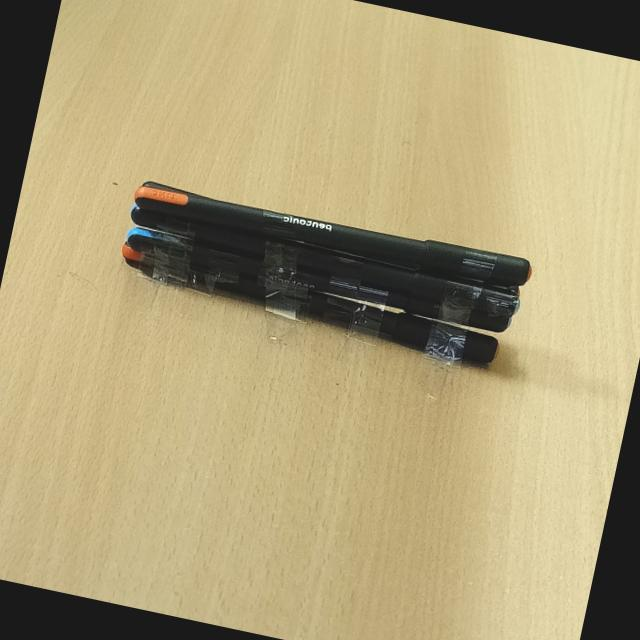pen: (116, 146, 560, 298), (98, 236, 509, 364)
